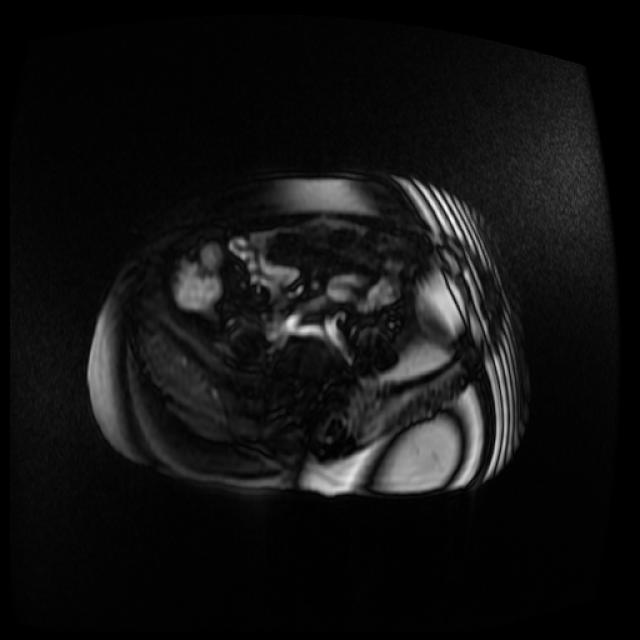sol: (416, 269, 465, 347)
